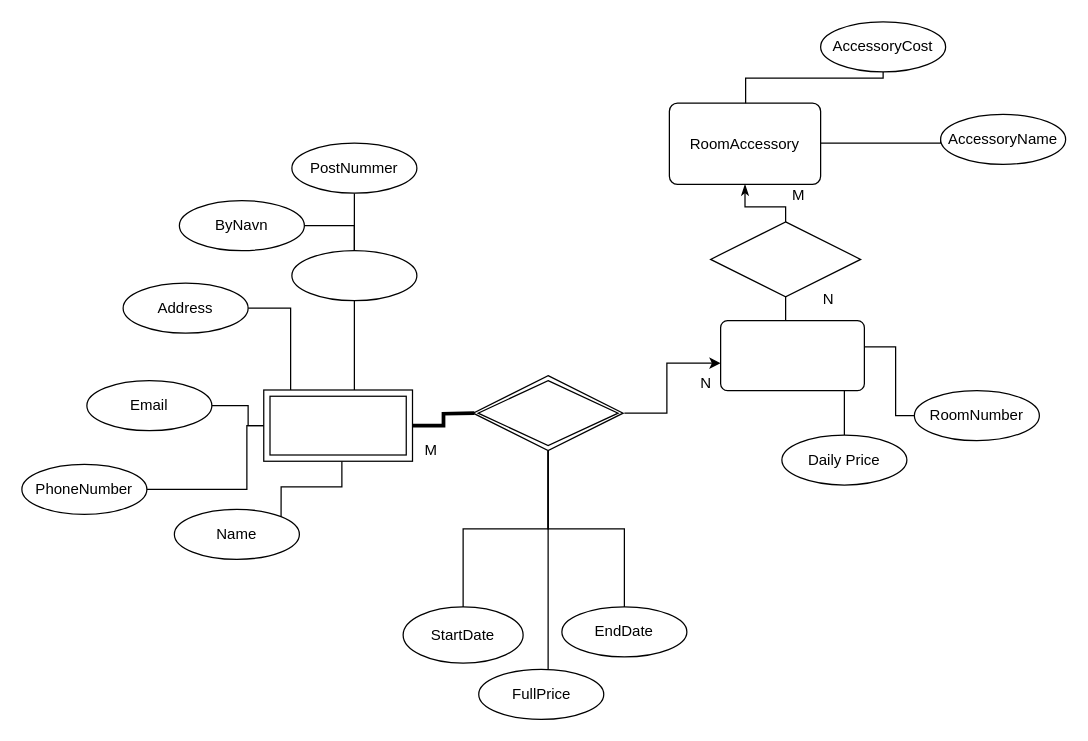
The diagram is 1088 pixels wide and 741 high, and some of its shapes have lost their labels. The centre of each missing label's shape, as x and y in pixels:
"By" belongs at [354,275].
"Customer" belongs at [337,425].
"Has" belongs at [785,259].
"Reserves a" belongs at [547,412].
"Room" belongs at [791,355].
